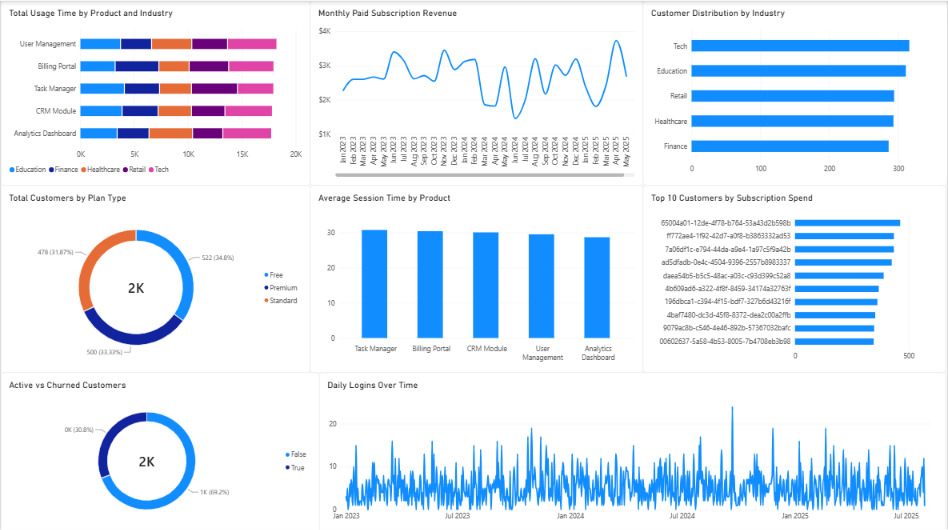

Layout of this report page (visuals, bound fields, positions):
{"tool":"powerbi","page":{"name":"Page 1","canvas":[1920,1080],"ordinal":0},"visuals":[{"type":"barChart","title":"Total Usage Time by Product and Industry","fields":{"Category":["Product_Usage.product_name"],"Series":["Customers.industry"],"Y":["Product_Usage.Total Usage Time"]},"box":[0,0,628.1,374.8],"z":0},{"type":"donutChart","title":"Total Customers by Plan Type","fields":{"Category":["Customers.plan_type"],"Y":["Customers.Total Customers"]},"box":[0,374.8,628.1,380],"z":1},{"type":"lineChart","title":"Monthly Paid Subscription Revenue","fields":{"Category":["Calendar.Month Year"],"Y":["Subscriptions.Total Paid Revenue"]},"box":[628.1,0,675.6,374.8],"z":2},{"type":"clusteredBarChart","title":"Customer Distribution by Industry","fields":{"Category":["Customers.industry"],"Y":["Customers.Total Customers"]},"box":[1303.8,0,617.6,374.8],"z":3},{"type":"actionButton","box":[0,0,100,40],"z":4},{"type":"clusteredColumnChart","title":"Average Session Time by Product","fields":{"Category":["Product_Usage.product_name"],"Y":["Product_Usage.Average Session Time"]},"box":[628.1,374.8,675.6,380],"z":5},{"type":"clusteredBarChart","title":"Top 10 Customers by Subscription Spend","fields":{"Category":["Customers.customer_id"],"Y":["Subscriptions.Subscription Spend"]},"box":[1303.8,374.8,614.9,380],"z":6},{"type":"donutChart","title":"Active vs Churned Customers","fields":{"Category":["Customers.is_churned"],"Y":["Customers.Total Customers"]},"box":[0,754.8,646.6,324.6],"z":7},{"type":"lineChart","title":"Daily Logins Over Time","fields":{"Category":["Product_Usage.date"],"Y":["Product_Usage.Total Logins"]},"box":[646.6,754.8,1272.1,324.6],"z":8}]}

Visuals, with their boxes in screenshot pixels (x1, y1, x2, y2), scaled from the page's 1920x1080 canvas onto the 948x530 screenshot:
"Total Usage Time by Product and Industry" barChart: select_region(0, 0, 310, 184)
"Total Customers by Plan Type" donutChart: select_region(0, 184, 310, 370)
"Monthly Paid Subscription Revenue" lineChart: select_region(310, 0, 644, 184)
"Customer Distribution by Industry" clusteredBarChart: select_region(644, 0, 947, 184)
actionButton: select_region(0, 0, 49, 20)
"Average Session Time by Product" clusteredColumnChart: select_region(310, 184, 644, 370)
"Top 10 Customers by Subscription Spend" clusteredBarChart: select_region(644, 184, 947, 370)
"Active vs Churned Customers" donutChart: select_region(0, 370, 319, 529)
"Daily Logins Over Time" lineChart: select_region(319, 370, 947, 529)
